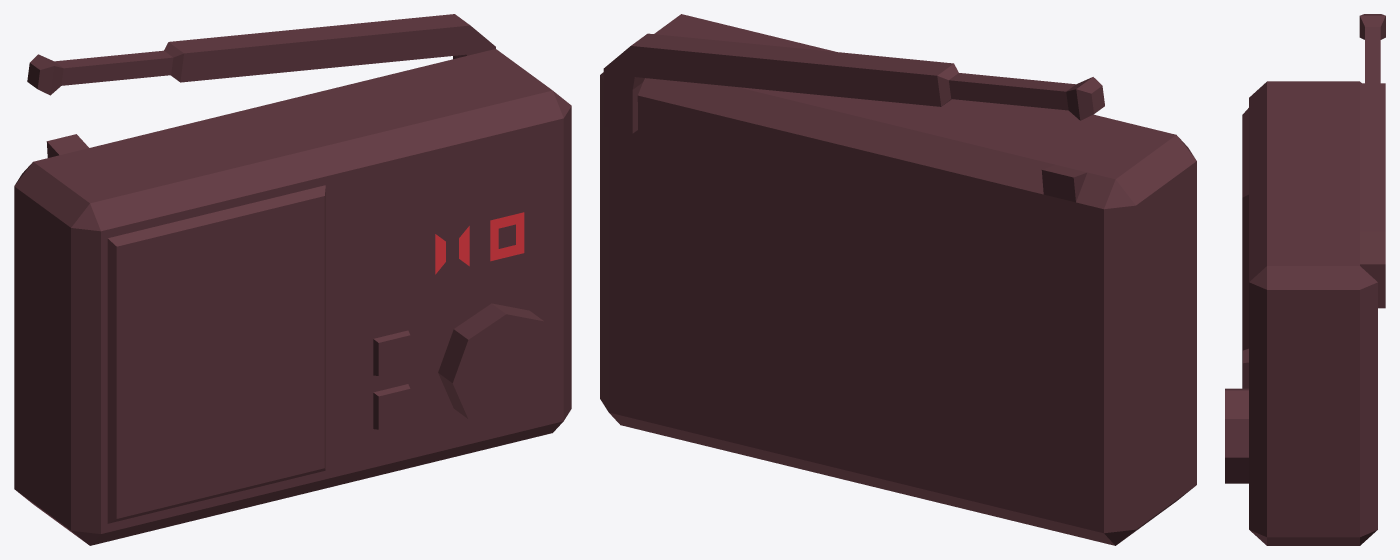
Rendered from radio-medium.fbx.
3 renders of one model, left to right at view 1: azimuth 30°, elevation 25°; view 2: azimuth 150°, elevation 25°; view 3: azimuth 270°, elevation 25°, orthographic. The views are drawn at different scales.
Visible parts, largest first — view 1: radio-medium; view 2: radio-medium; view 3: radio-medium.
Part boxes in pixels (left/top/right/bottom): radio-medium: left=14, top=14, right=571, bottom=545; radio-medium: left=600, top=14, right=1196, bottom=545; radio-medium: left=1225, top=14, right=1385, bottom=545.
Bounding box in the file's own units: 0.1549 × 0.1281 × 0.0527.
